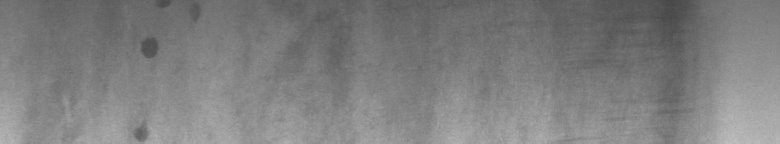fi: (132, 4, 204, 136)
